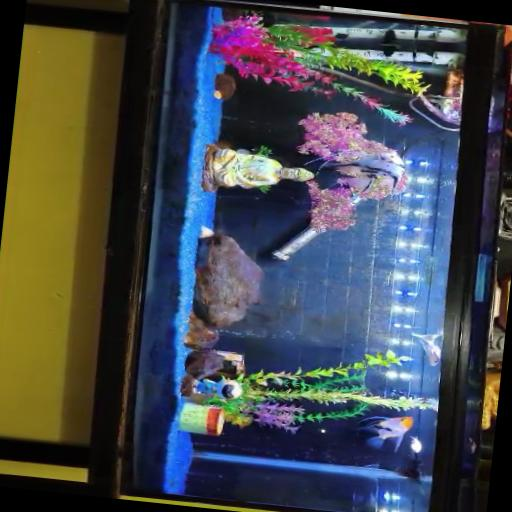Fish: (316, 150, 404, 192), (357, 415, 412, 450), (411, 331, 440, 365), (402, 457, 422, 482), (409, 436, 421, 452)
